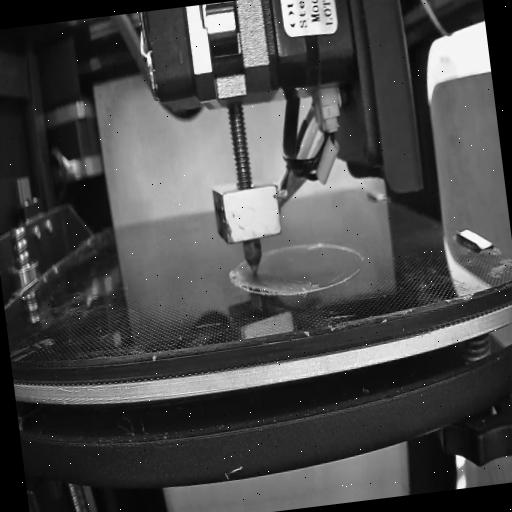under_extrusion: (230, 270, 282, 302)
